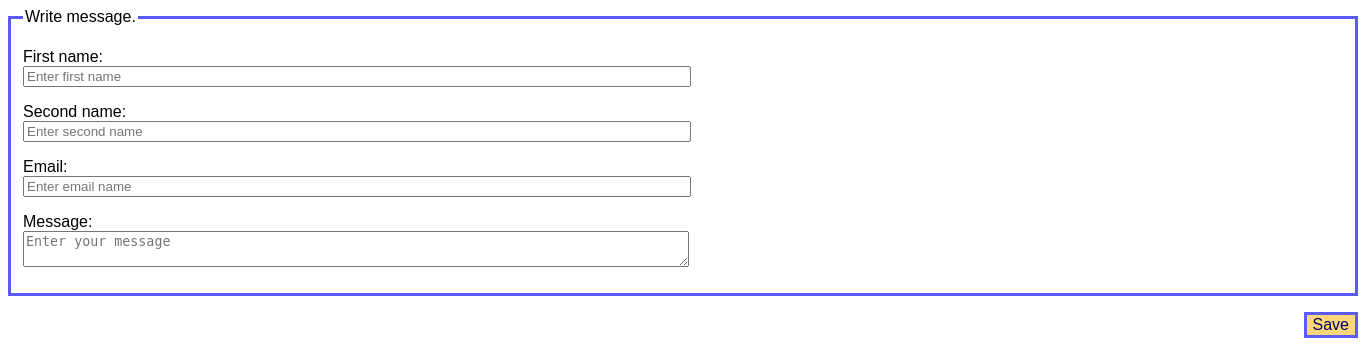
Test: Message Form › Display "second name" error
Type "aa" into the field labelled "Second name:".
click(357, 131); type("aa")  # box [23, 121, 691, 142]
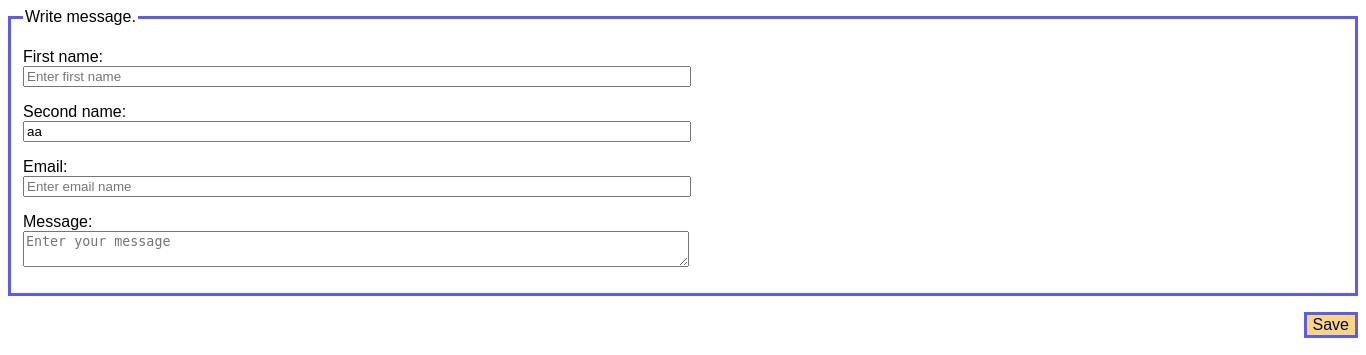
Click the button "Save".
click(1331, 325)  # box [1304, 312, 1358, 338]
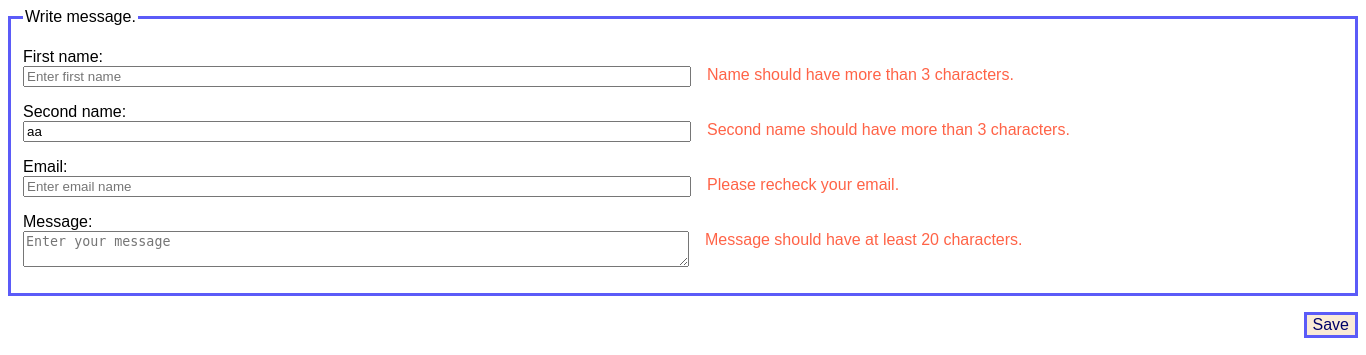
Result: the text "Second name should have more than 3 characters." is shown at [691, 121, 1070, 139]
